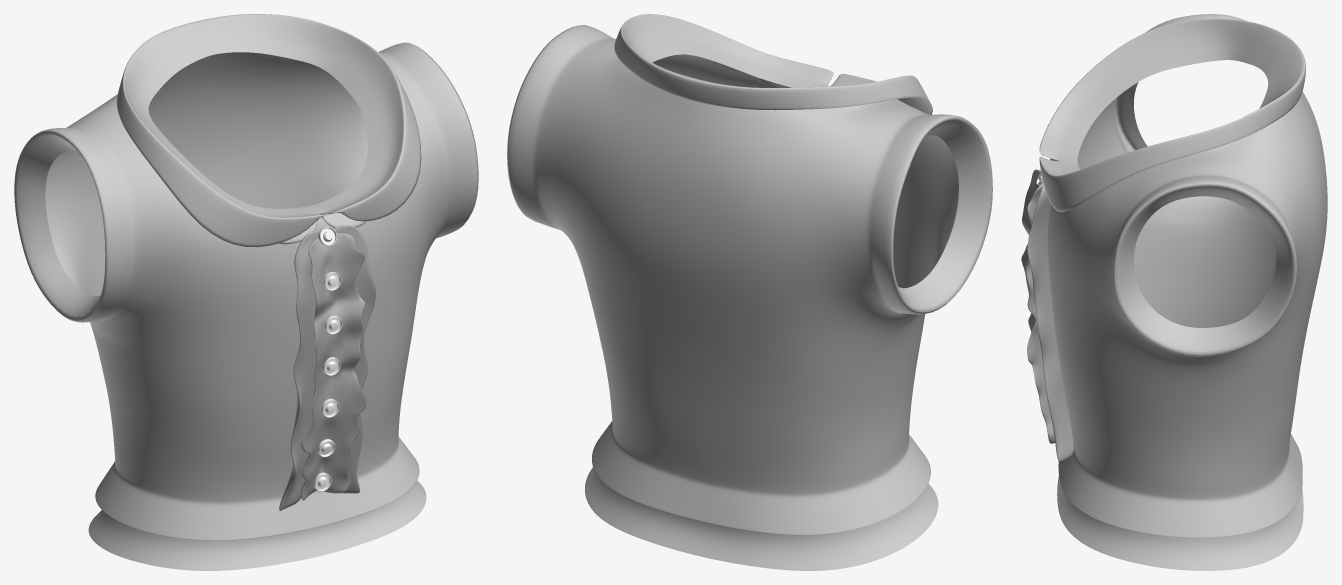
The model's file is FancyShirt.fbx.
The picture shows the model from 3 angles, left to right: view 1: azimuth 30°, elevation 25°; view 2: azimuth 150°, elevation 25°; view 3: azimuth 270°, elevation 25°; orthographic projection. The views are drawn at different scales.
Parts seen in each view (by area): view 1: Torso64, Torso63, pCylinder20; view 2: Torso64; view 3: Torso64, Torso63.
Boxes of the visible parts, x1,y1,x2,y2 form: Torso64: [14, 14, 478, 570]; Torso63: [279, 225, 375, 510]; pCylinder20: [314, 227, 342, 491]; Torso64: [507, 14, 992, 570]; Torso64: [1039, 14, 1327, 570]; Torso63: [1021, 169, 1073, 461].
Size of the model in its own units: 6.39 by 7.44 by 4.66.
